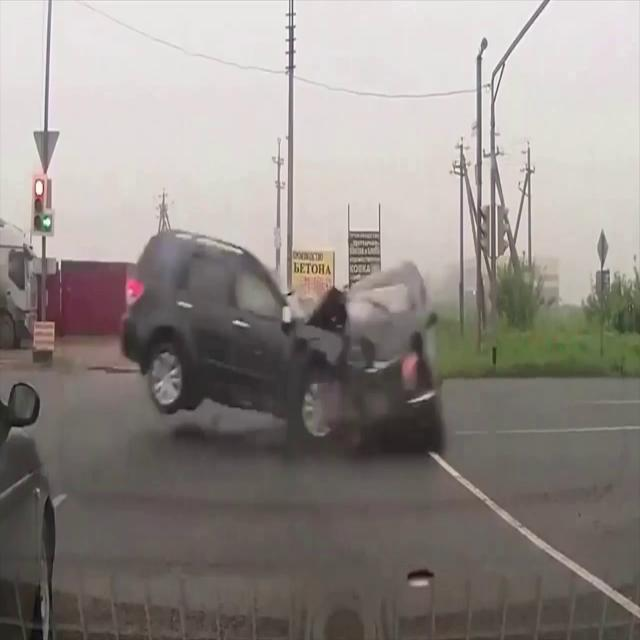accident: (119, 226, 443, 453)
